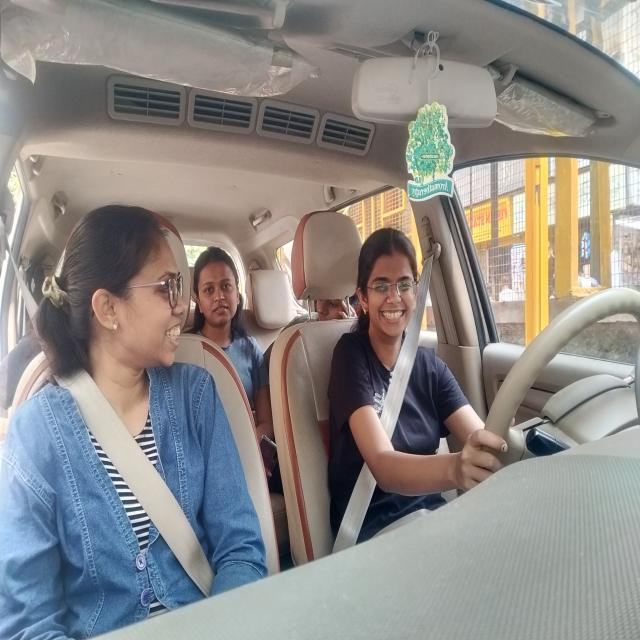person: (72, 210, 210, 372), (349, 236, 423, 344), (197, 257, 246, 327)
talking: (374, 305, 408, 327)
